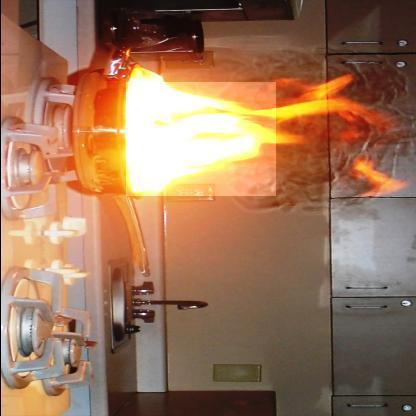Fire: (112, 56, 416, 204)
